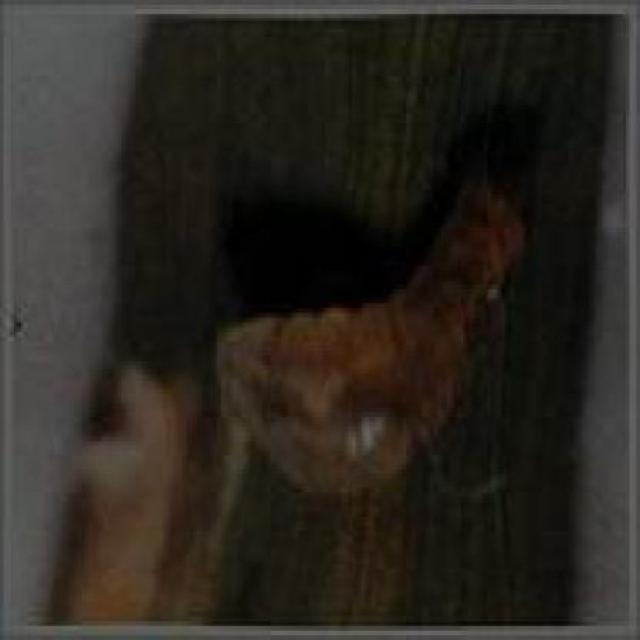whorl-maggot: (215, 177, 524, 495)
